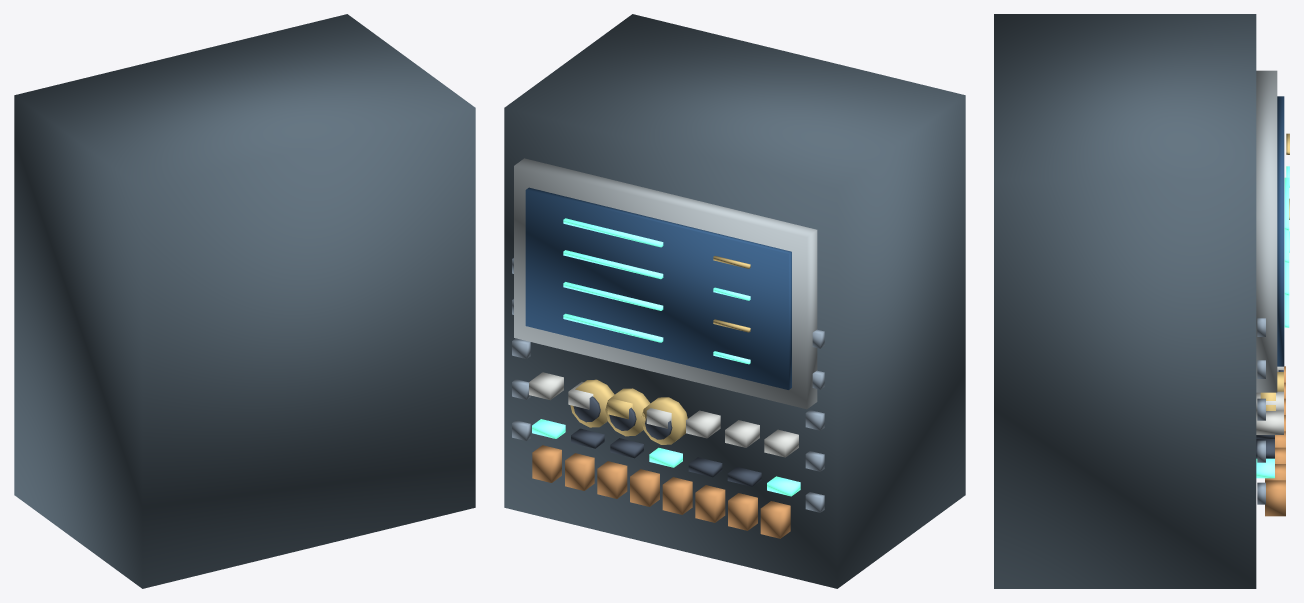
The model's file is L84_24_ReactionWheelMotorCurrentMonitor_Fitted.fbx.
3 views of the same model, side by side, from view 1: azimuth 30°, elevation 25°; view 2: azimuth 150°, elevation 25°; view 3: azimuth 270°, elevation 25° (orthographic). The views are drawn at different scales.
Parts seen in each view (by area): view 1: L84_ReactionWheelMotorCurrentMonitor_Static__tint1C2933; view 2: L84_ReactionWheelMotorCurrentMonitor_Static__tint1C2933, L84_ReactionWheelMotorCurrentMonitor_Static__tint0B214A, L84_ReactionWheelMotorCurrentMonitor_Static__tint91A3AD, L84_ReactionWheelMotorCurrentMonitor_Static__tintCC6629, L84_ReactionWheelMotorCurrentMonitor_Static__tint2BF0A8, L84_ReactionWheelMotorCurrentMonitor_Static__tintCCD4CF, L84_ReactionWheelMotorCurrentMonitor_Static__tintF2B547, L84_ReactionWheelMotorCurrentMonitor_Static__tint131B26, L84_ReactionWheelMotorCurrentMonitor_Static__tint59738F; view 3: L84_ReactionWheelMotorCurrentMonitor_Static__tint1C2933, L84_ReactionWheelMotorCurrentMonitor_Static__tint91A3AD, L84_ReactionWheelMotorCurrentMonitor_Static__tint0B214A, L84_ReactionWheelMotorCurrentMonitor_Static__tintCC6629, L84_ReactionWheelMotorCurrentMonitor_Static__tint2BF0A8, L84_ReactionWheelMotorCurrentMonitor_Static__tint59738F, L84_ReactionWheelMotorCurrentMonitor_Static__tintCCD4CF, L84_ReactionWheelMotorCurrentMonitor_Static__tintF2B547.
Boxes of the visible parts, x1,y1,x2,y2 form: L84_ReactionWheelMotorCurrentMonitor_Static__tint1C2933: (14,14,475,588); L84_ReactionWheelMotorCurrentMonitor_Static__tint1C2933: (504,14,965,588); L84_ReactionWheelMotorCurrentMonitor_Static__tint0B214A: (525,187,791,389); L84_ReactionWheelMotorCurrentMonitor_Static__tint91A3AD: (514,158,817,409); L84_ReactionWheelMotorCurrentMonitor_Static__tintCC6629: (532,445,790,538); L84_ReactionWheelMotorCurrentMonitor_Static__tint2BF0A8: (532,218,800,496); L84_ReactionWheelMotorCurrentMonitor_Static__tintCCD4CF: (529,372,798,457); L84_ReactionWheelMotorCurrentMonitor_Static__tintF2B547: (570,256,750,444); L84_ReactionWheelMotorCurrentMonitor_Static__tint131B26: (571,396,761,486); L84_ReactionWheelMotorCurrentMonitor_Static__tint59738F: (512,258,824,512); L84_ReactionWheelMotorCurrentMonitor_Static__tint1C2933: (994,14,1256,588); L84_ReactionWheelMotorCurrentMonitor_Static__tint91A3AD: (1256,70,1277,392); L84_ReactionWheelMotorCurrentMonitor_Static__tint0B214A: (1277,96,1284,366); L84_ReactionWheelMotorCurrentMonitor_Static__tintCC6629: (1265,366,1285,516); L84_ReactionWheelMotorCurrentMonitor_Static__tint2BF0A8: (1256,166,1289,478); L84_ReactionWheelMotorCurrentMonitor_Static__tint59738F: (1257,318,1265,504); L84_ReactionWheelMotorCurrentMonitor_Static__tintCCD4CF: (1256,366,1283,434); L84_ReactionWheelMotorCurrentMonitor_Static__tintF2B547: (1260,133,1289,410).
Bounding box in the file's own units: 10.28 × 11.79 × 7.74.
